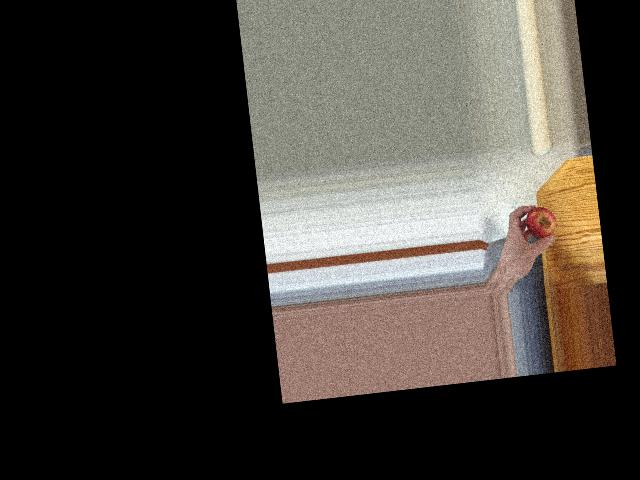apple: (522, 204, 558, 244)
